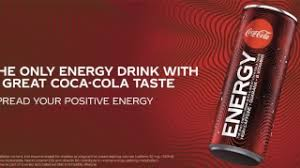coke-can-energy: (208, 1, 298, 161)
